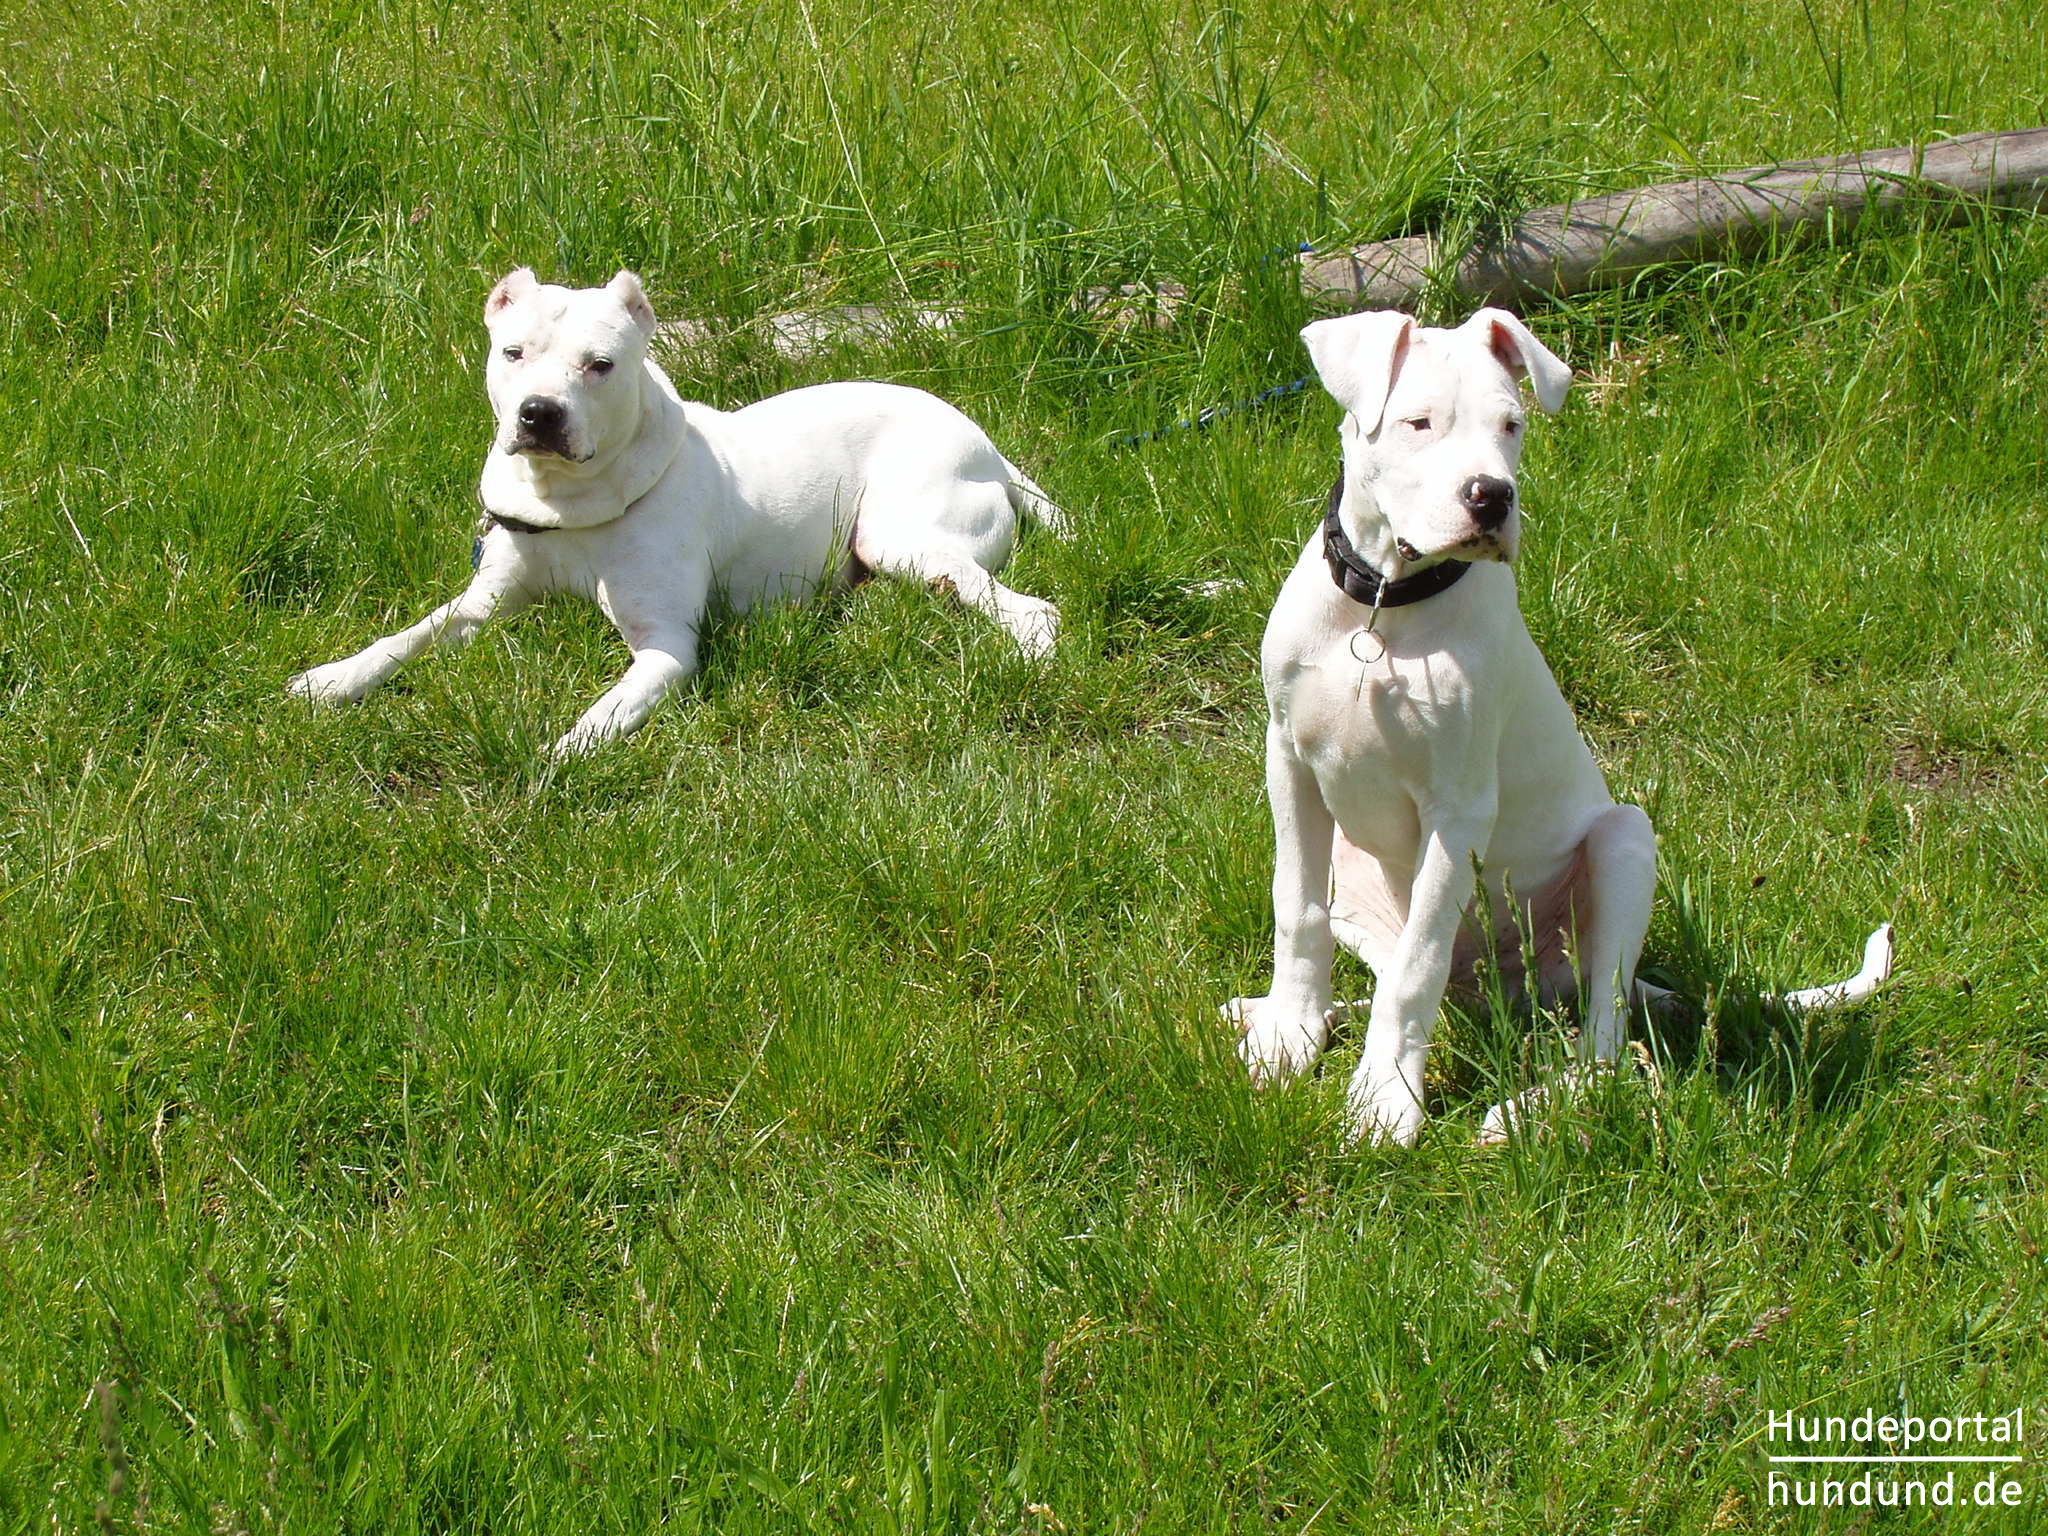dogo_argentino: (1222, 303, 1895, 1152), (282, 263, 1074, 770)
